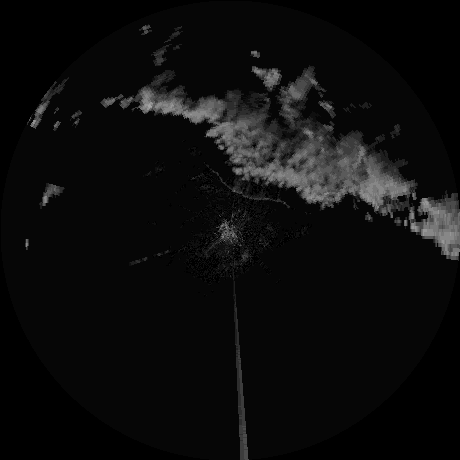frontgust: (212, 170, 289, 207)
